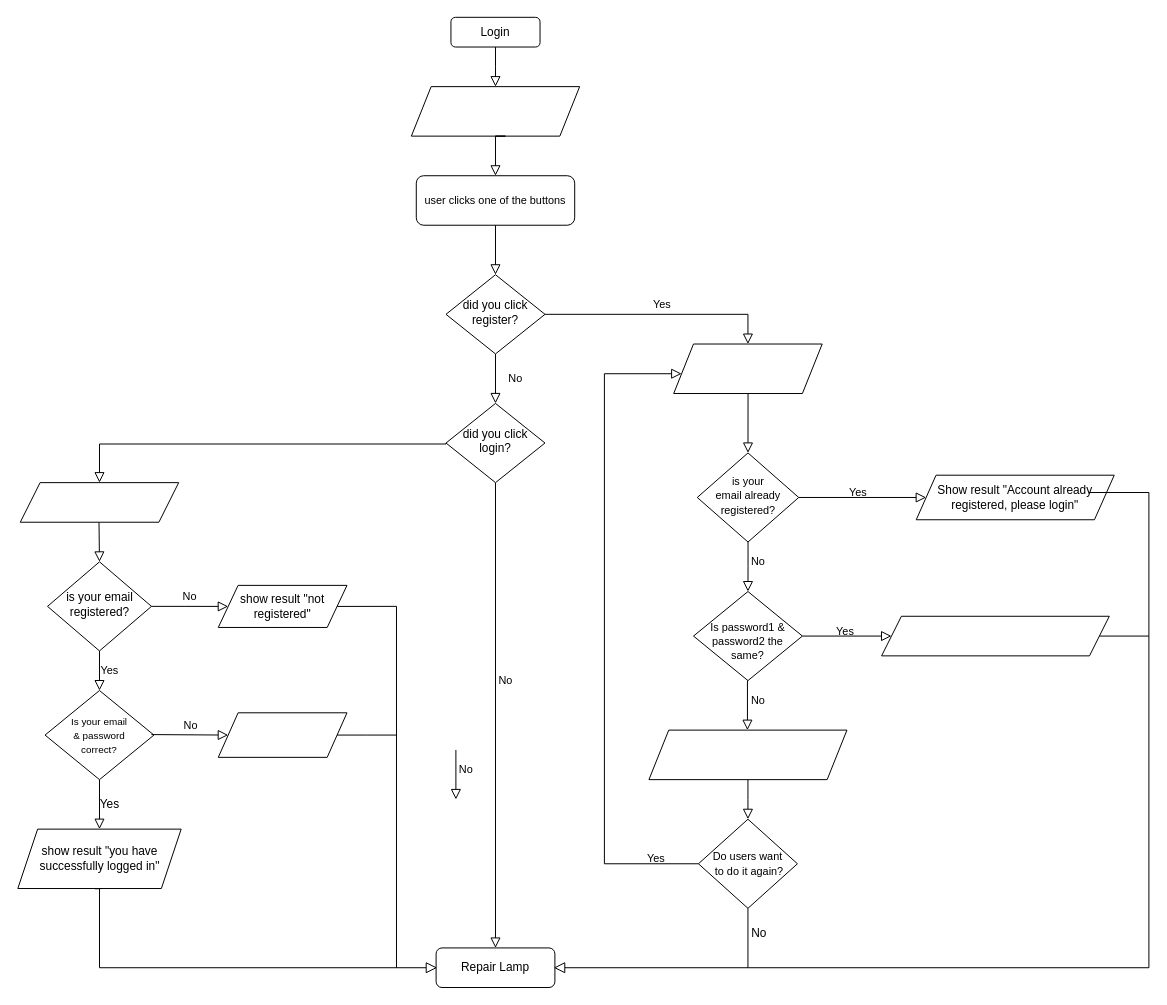
Image size: 1167x1005. Some labels were removed from this diagram. Here are the shapes that lost their labels. From the top down, the centre of each, then its label:
(495,111): Display login and register buttons
(747,368): Input email, password1, password2
(99,502): Input email & password
(995,635): Show result "You have successfully registered"
(282,734): show invalid email/password
(747,754): Show result "Password 1 & Password 2 must be the same"
